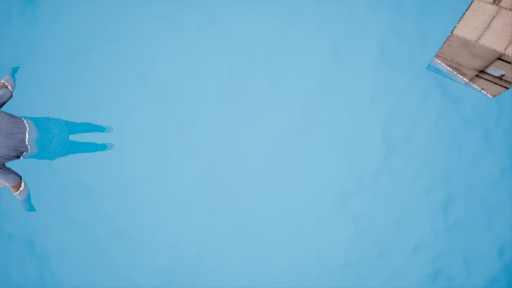person: (1, 70, 114, 206)
